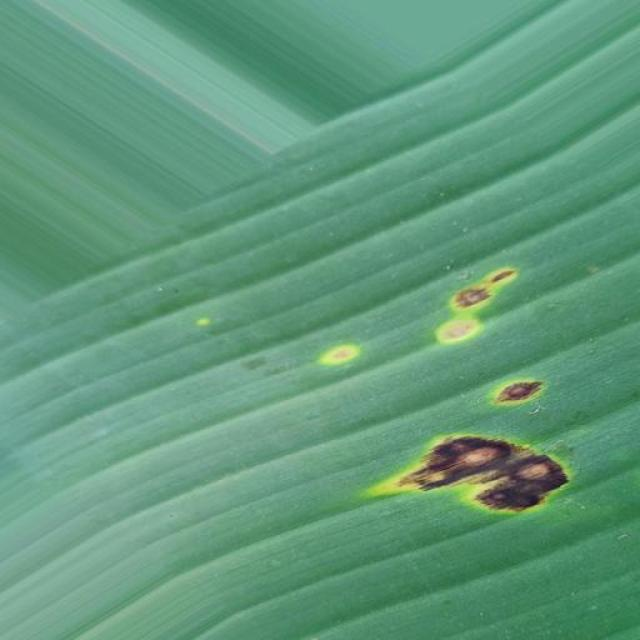Early_rust: (364, 234, 592, 564)
